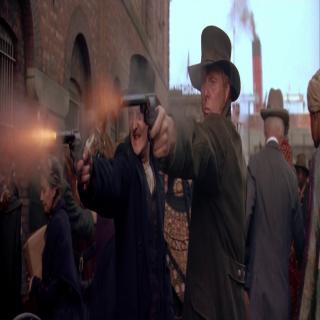gun: (116, 79, 166, 163), (55, 117, 88, 183)
